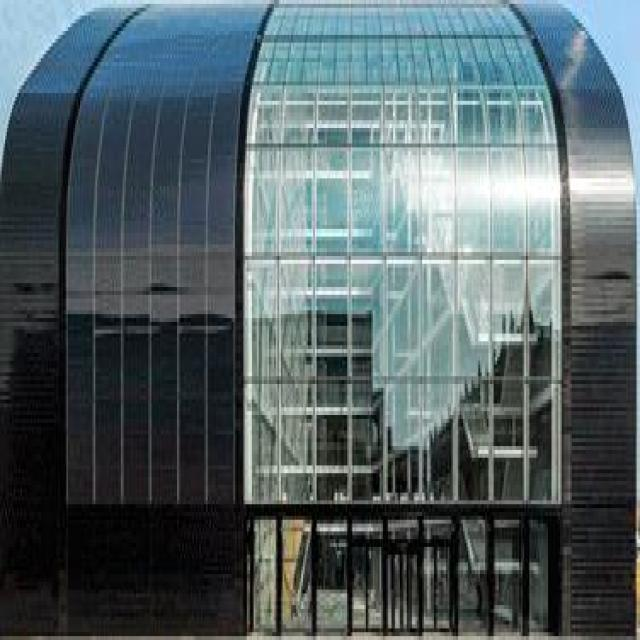door: (246, 498, 566, 636)
window: (243, 0, 565, 636)
